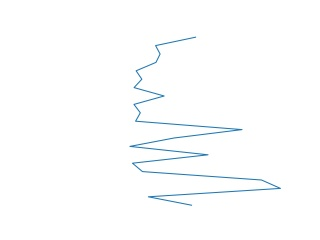crevasseRiverBedLagDeposit: (126, 33, 286, 210)
